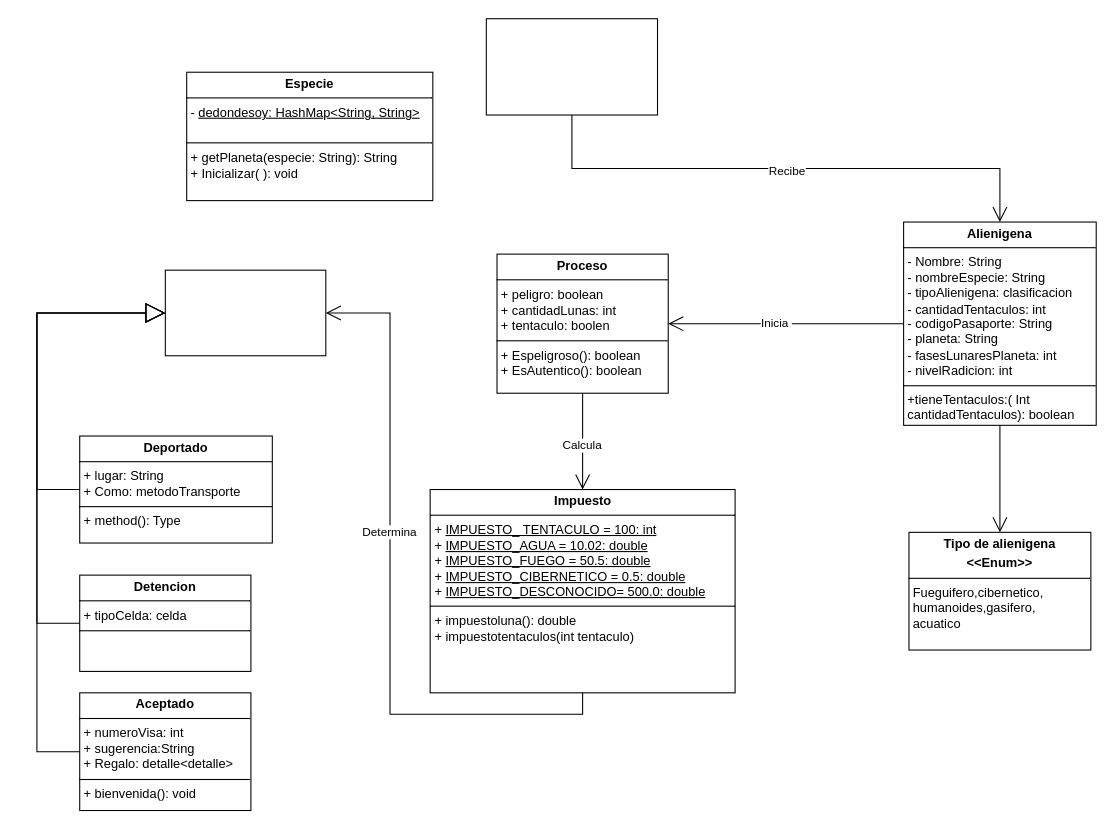
The diagram is 1115 pixels wide and 829 high, and some of its shapes have lost their labels. Each missing label, with the centre of its shape:
"Aduna Terrestre" belongs at point 571,66.
"DestinoFinal + reubicacion():String" belongs at point 245,312.
